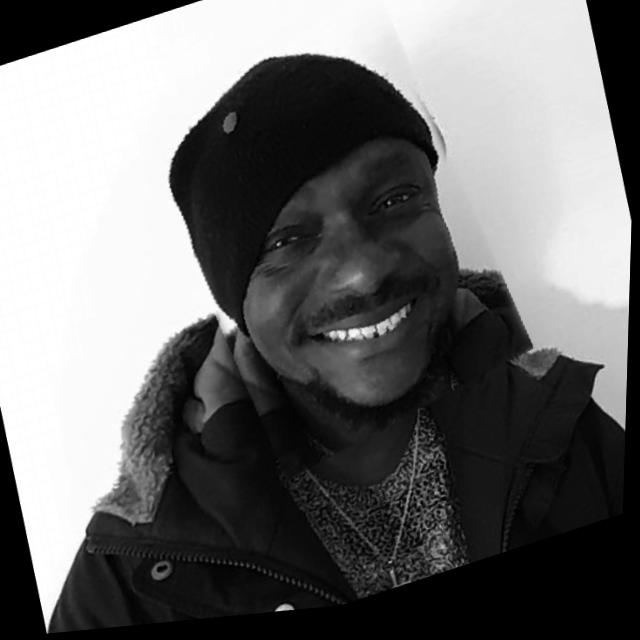happy: (132, 0, 536, 501)
